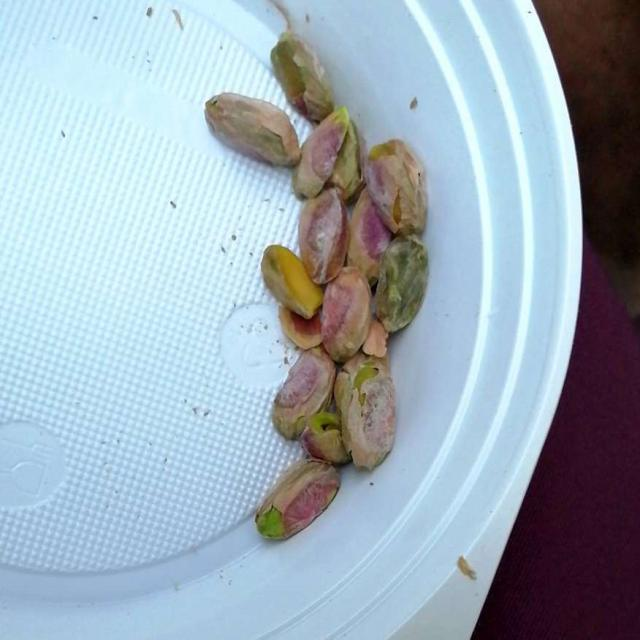pistachio: (214, 23, 422, 537)
